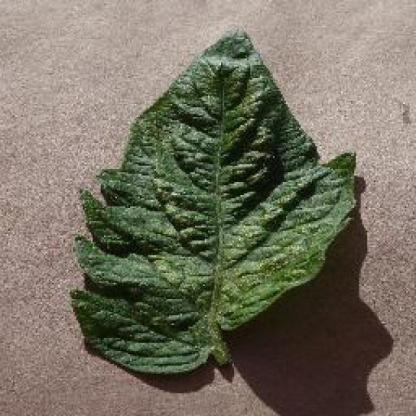Tomato_Spider_Mites: (76, 30, 356, 368)
